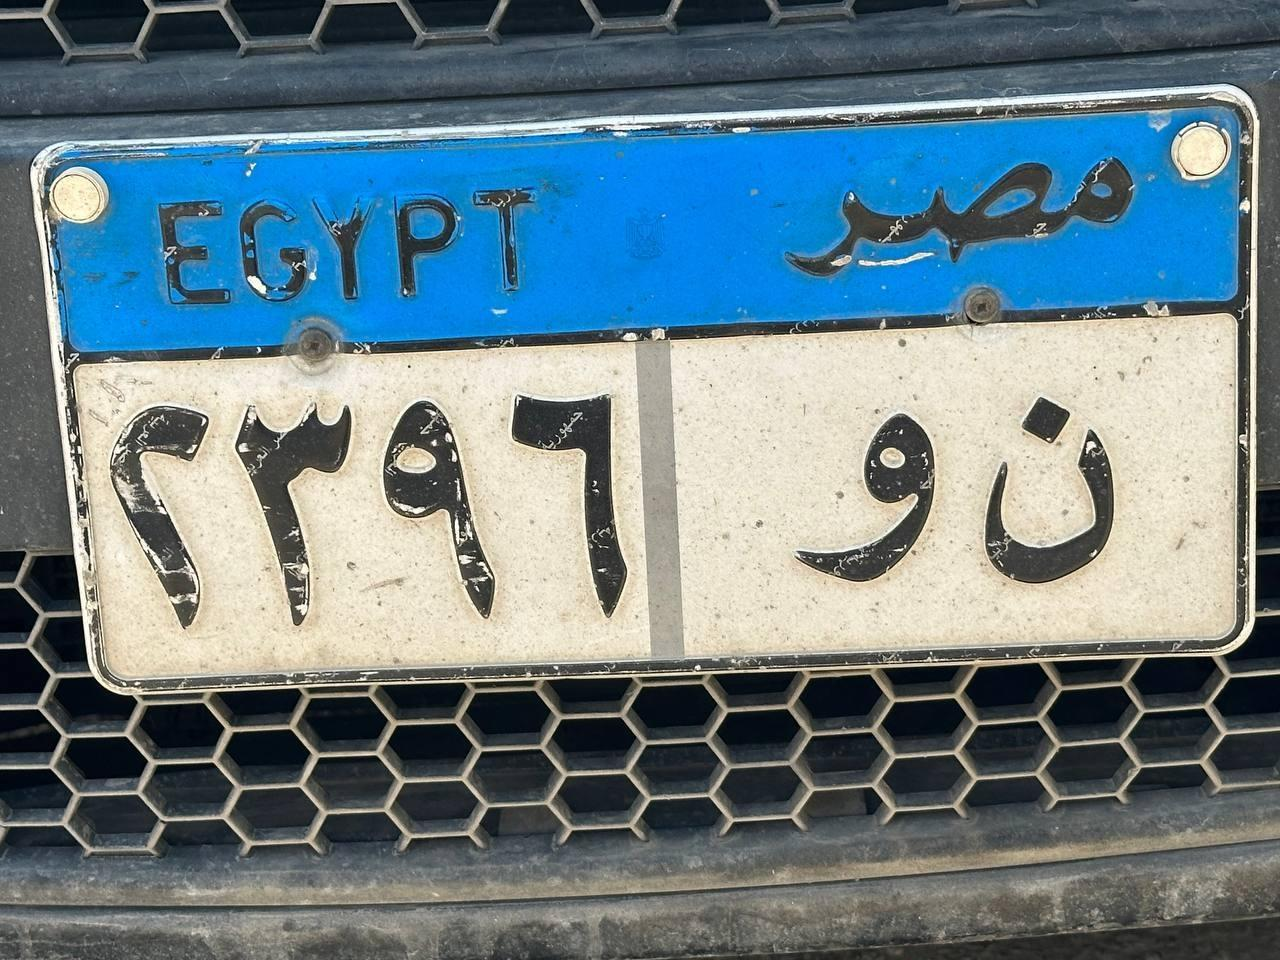2: (107, 386, 220, 615)
3: (220, 388, 354, 644)
6: (507, 356, 627, 640)
9: (366, 370, 506, 618)
License Plate: (29, 82, 1264, 699)
Noon: (980, 381, 1154, 589)
Wow: (780, 410, 959, 592)
